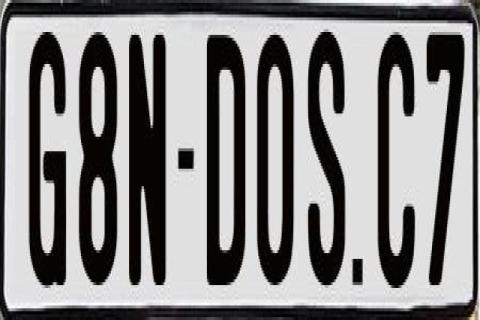0: (76, 23, 118, 285), (256, 29, 294, 282), (424, 27, 460, 280)
C: (378, 26, 421, 291)
D: (204, 26, 242, 291)
G: (30, 32, 68, 288)
N: (126, 35, 162, 303)
S: (306, 29, 344, 299)
